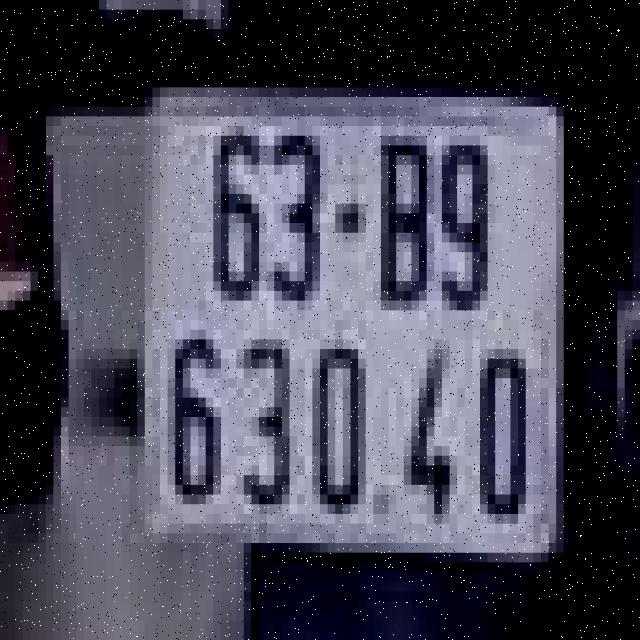0: (301, 320, 362, 504), (468, 334, 522, 528)
3: (270, 111, 332, 325), (232, 310, 294, 524)
4: (408, 315, 461, 529)
6: (156, 315, 225, 519), (209, 121, 263, 286)
9: (438, 116, 499, 330)
B: (366, 107, 434, 339)
